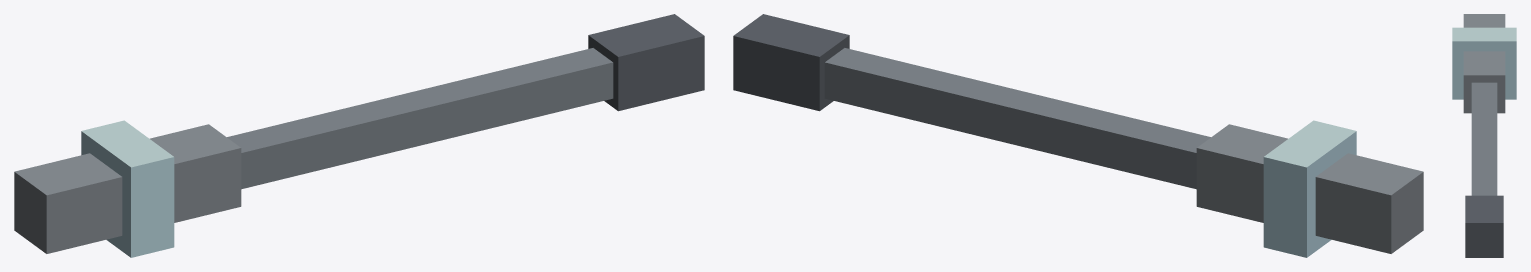
File: t_flak_b.glb
3 views of the same model, side by side, from view 1: azimuth 30°, elevation 25°; view 2: azimuth 150°, elevation 25°; view 3: azimuth 270°, elevation 25° (orthographic). The views are drawn at different scales.
Parts seen in each view (by area): view 1: t_flak_b; view 2: t_flak_b; view 3: t_flak_b.
Boxes of the visible parts, box(x1,y1,x2,y2) form: t_flak_b: box(14, 14, 704, 257); t_flak_b: box(733, 14, 1423, 257); t_flak_b: box(1452, 14, 1516, 257).
Size of the model in its own units: 3.05 by 0.4 by 0.4.
